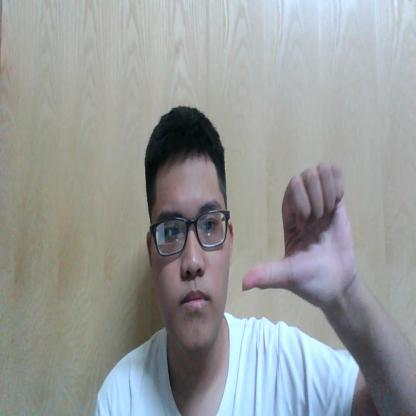right: (244, 164, 356, 314)
